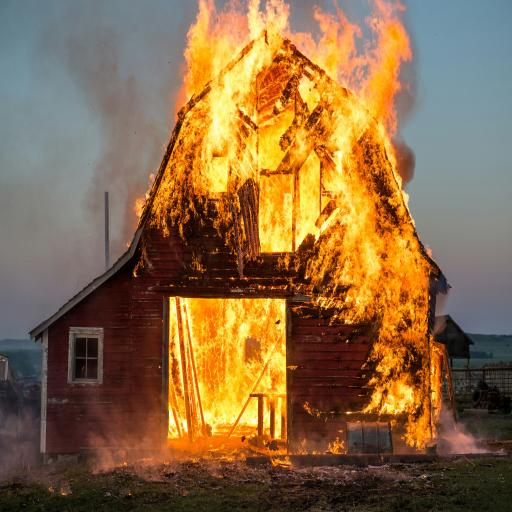buildingfire: (0, 3, 512, 507)
